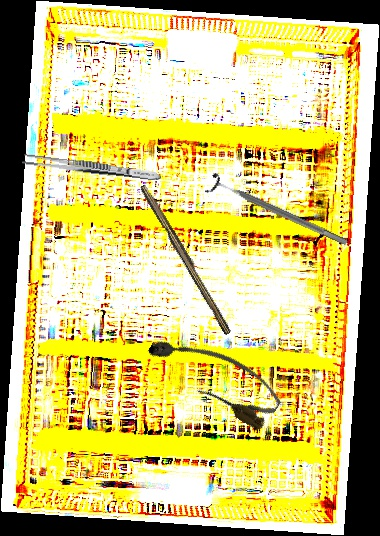Cannula: (142, 317, 288, 434)
Dressing Forceps: (21, 153, 162, 183)
Fixation Ring: (204, 170, 352, 254)
Scalpel Handle: (137, 182, 236, 336)
